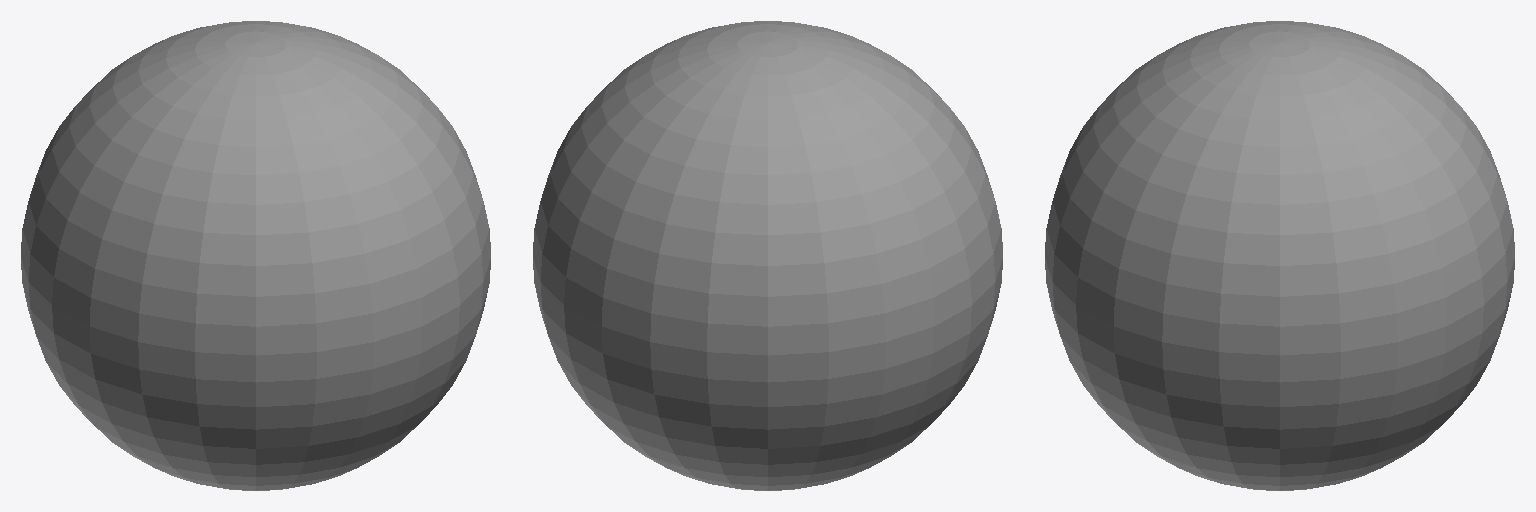
File: SkyboxBackdrop8.obj
3 renders of one model, left to right at view 1: azimuth 30°, elevation 25°; view 2: azimuth 150°, elevation 25°; view 3: azimuth 270°, elevation 25°, orthographic.
Parts seen in each view (by area): view 1: SkyboxBackdrop8_skydome.008; view 2: SkyboxBackdrop8_skydome.008; view 3: SkyboxBackdrop8_skydome.008.
Part boxes in pixels (left/top/right/bottom): SkyboxBackdrop8_skydome.008: left=21, top=21, right=490, bottom=490; SkyboxBackdrop8_skydome.008: left=533, top=21, right=1002, bottom=490; SkyboxBackdrop8_skydome.008: left=1045, top=21, right=1514, bottom=490.
Size of the model in its own units: 49.17 by 49.17 by 49.17.